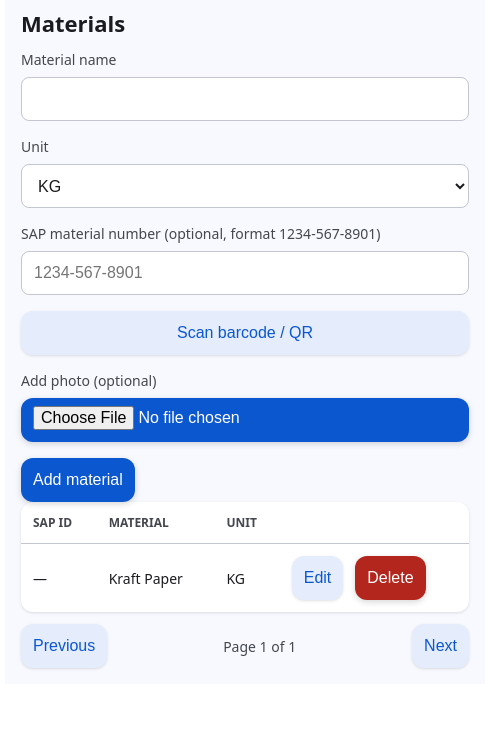
it: MaterialsPage › deletes a material after confirming
expect the text "Kraft Paper" is shown: met, box [97, 544, 214, 612]
Click the button "Delete".
click(390, 578)  # box [355, 556, 426, 600]
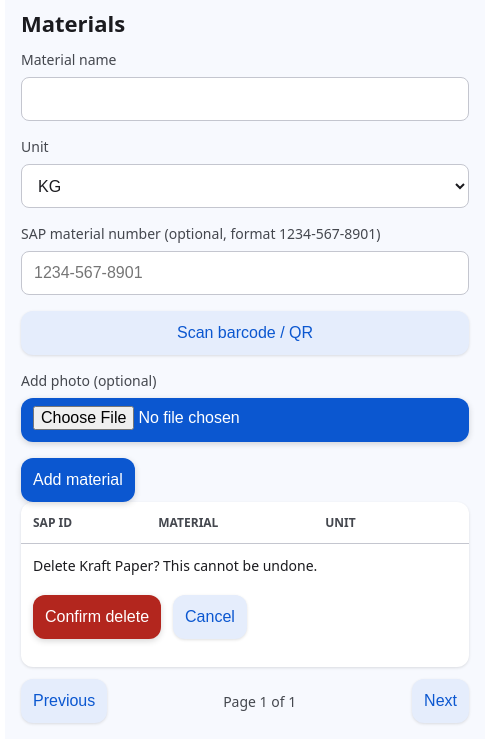
Click the button "Confirm delete".
click(97, 617)  # box [33, 595, 161, 639]
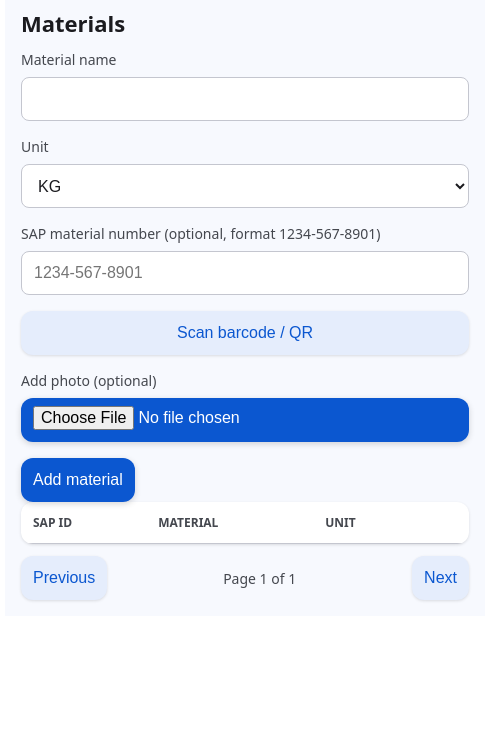
expect the text "Kraft Paper" is gone: met
